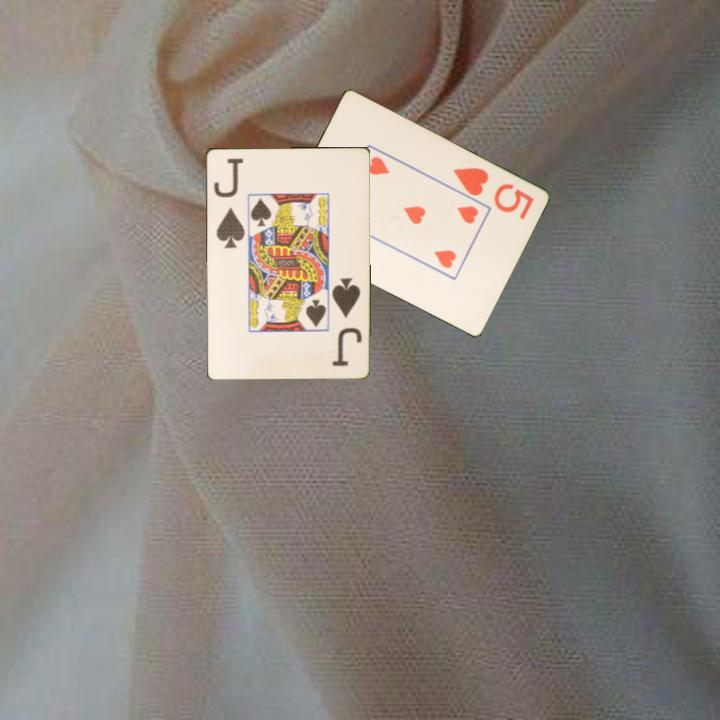5h: (449, 164, 537, 223)
Js: (210, 154, 247, 250), (328, 274, 364, 369)
